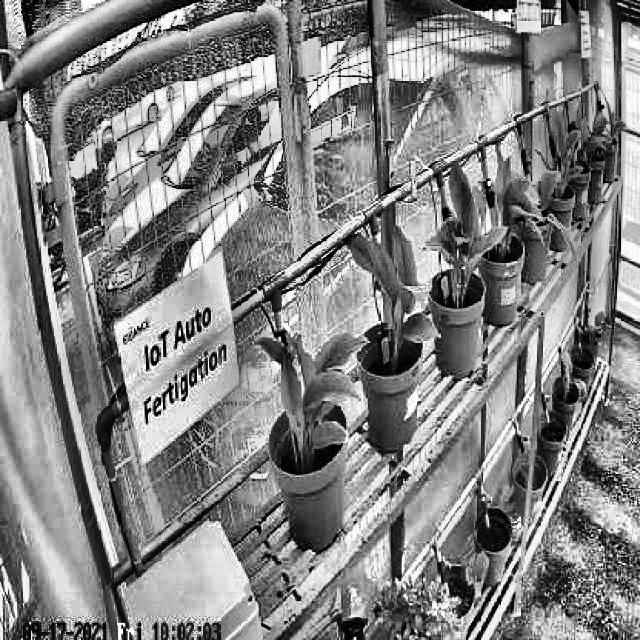plants: (258, 330, 368, 456), (346, 225, 440, 352), (424, 161, 504, 284), (492, 148, 543, 247)
